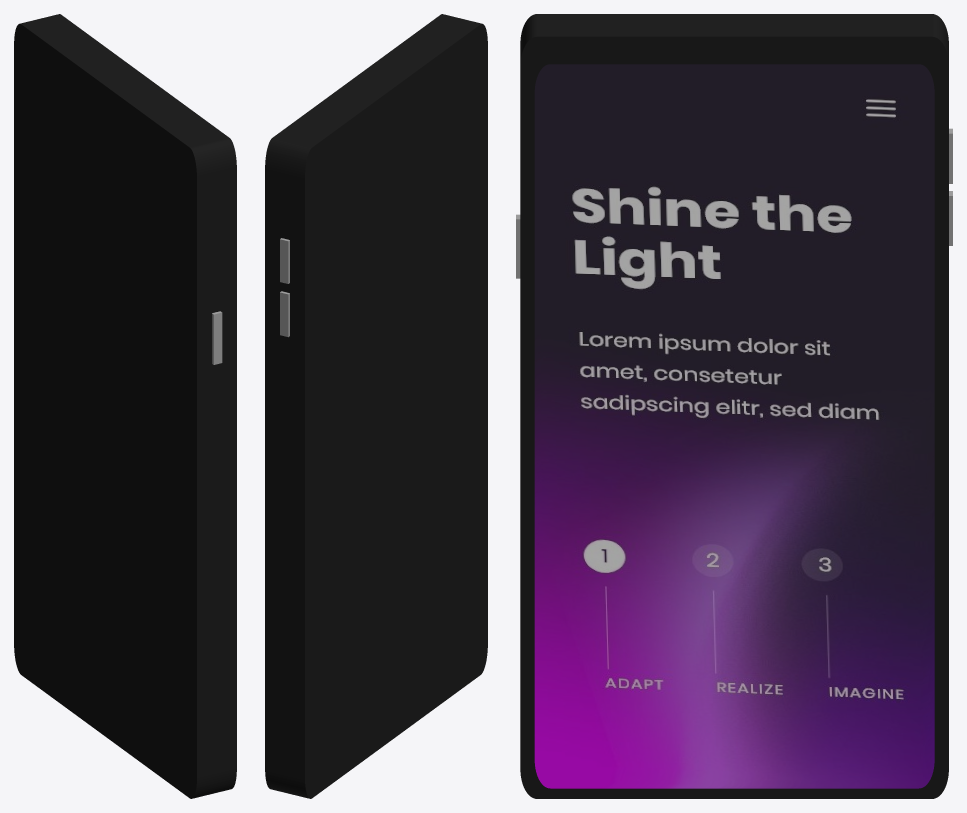
The model's file is phone.gltf.
The picture shows the model from 3 angles, left to right: view 1: azimuth 30°, elevation 25°; view 2: azimuth 150°, elevation 25°; view 3: azimuth 270°, elevation 25°; orthographic projection. The views are drawn at different scales.
Visible parts, largest first — view 1: Phone; view 2: Phone; view 3: Phone.
Part boxes in pixels (box(x1,y1,x2,y2)): Phone: box(14, 14, 236, 798); Phone: box(265, 14, 487, 798); Phone: box(516, 14, 952, 798).
Size of the model in its own units: 0.5201 by 8.11 by 4.21.
3 materials, 1 textured.
